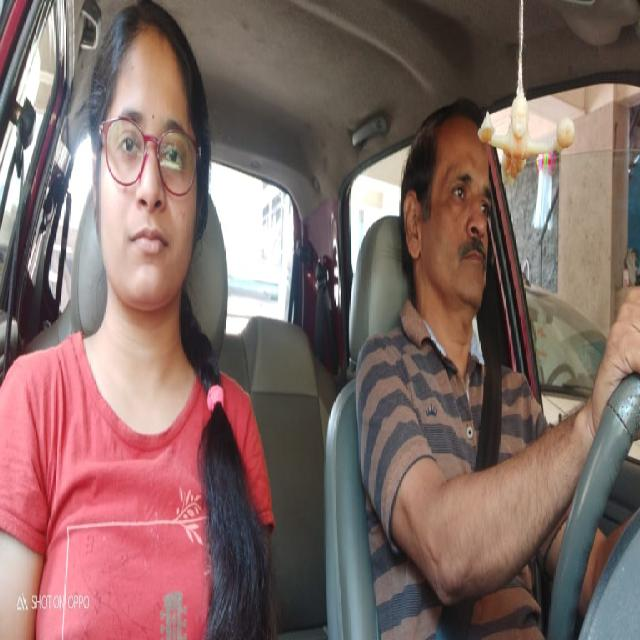person: (92, 21, 198, 303), (405, 115, 490, 309)
